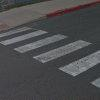Crosswalk: (9, 22, 100, 83)
